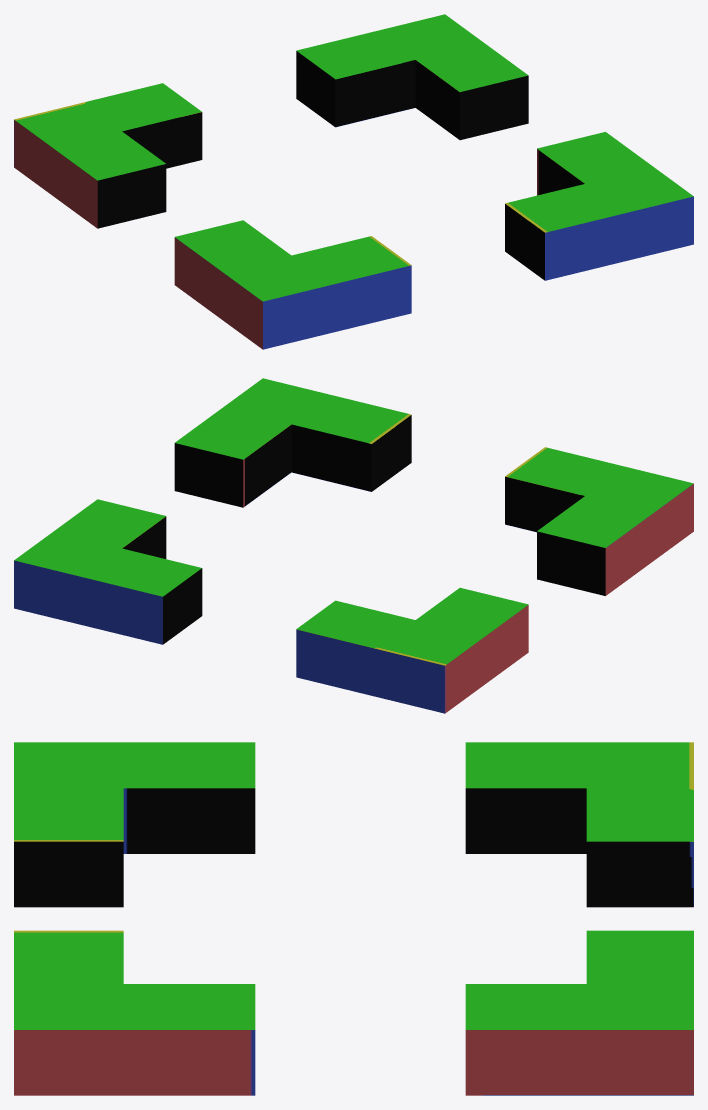
Rendered from Cursor.obj.
The picture shows the model from 3 angles, top to bottom: view 1: azimuth 30°, elevation 25°; view 2: azimuth 150°, elevation 25°; view 3: azimuth 270°, elevation 25°; orthographic projection. The views are drawn at different scales.
Visible parts, largest first — view 1: 立方体; view 2: 立方体; view 3: 立方体.
Part boxes in pixels (x1,y1,x2,y2): 立方体: (14, 14, 693, 349); 立方体: (14, 378, 693, 713); 立方体: (14, 742, 693, 1095).
Bounding box in the file's own units: 2 × 0.2131 × 2.
Materials: 1 (1 with a texture image).
